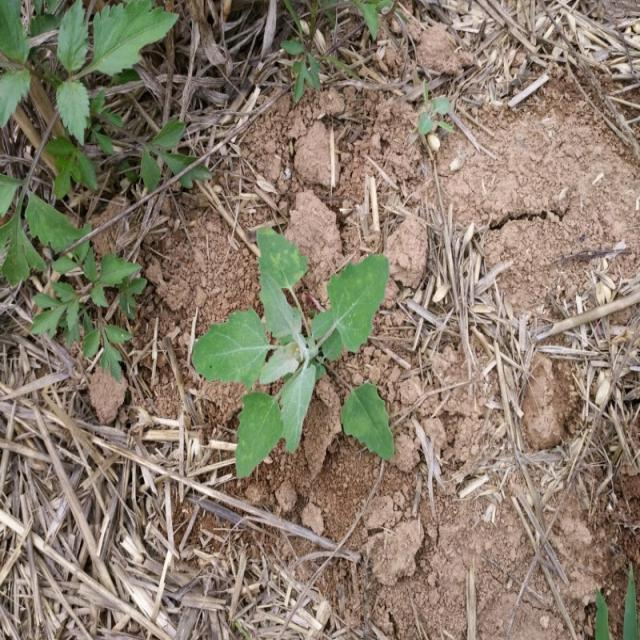ca: (195, 224, 395, 468)
